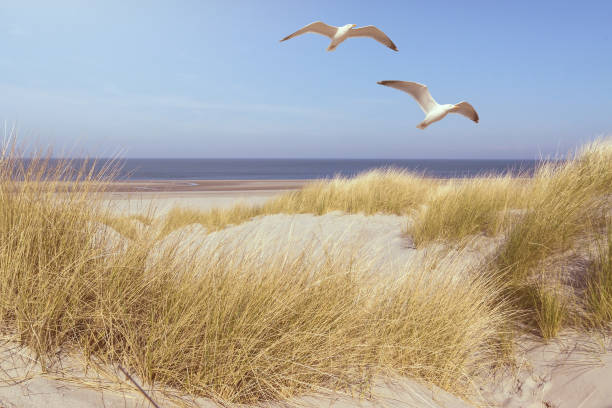Bird: (372, 71, 484, 131), (276, 18, 401, 52)
